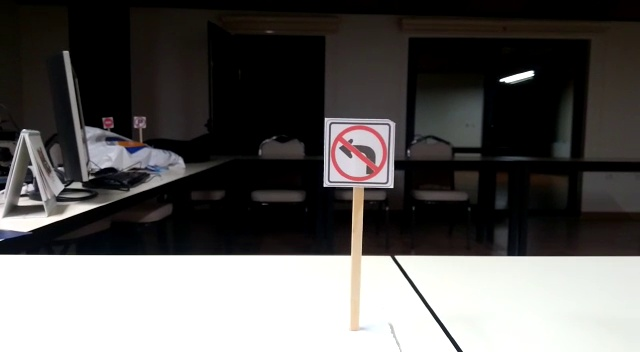sola_donulmez: (329, 121, 393, 185)
